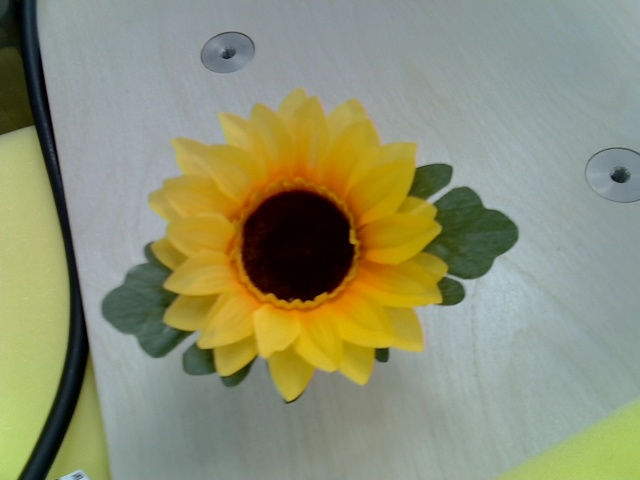해바라기: (147, 89, 446, 403)
